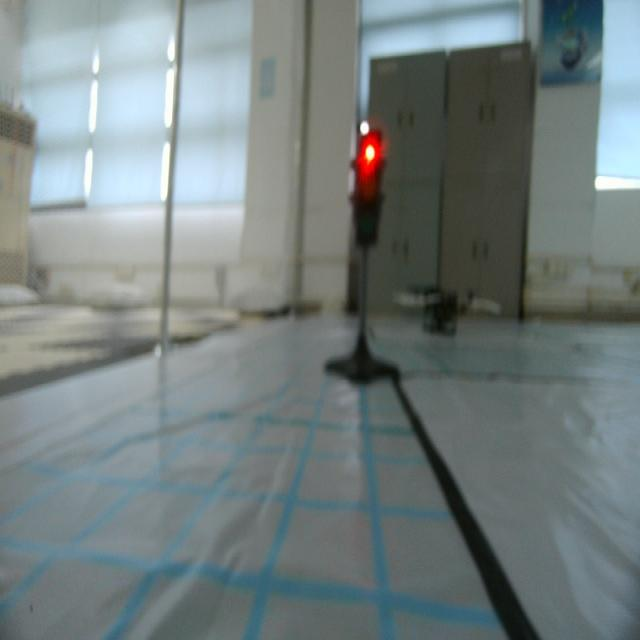red: (352, 128, 383, 253)
